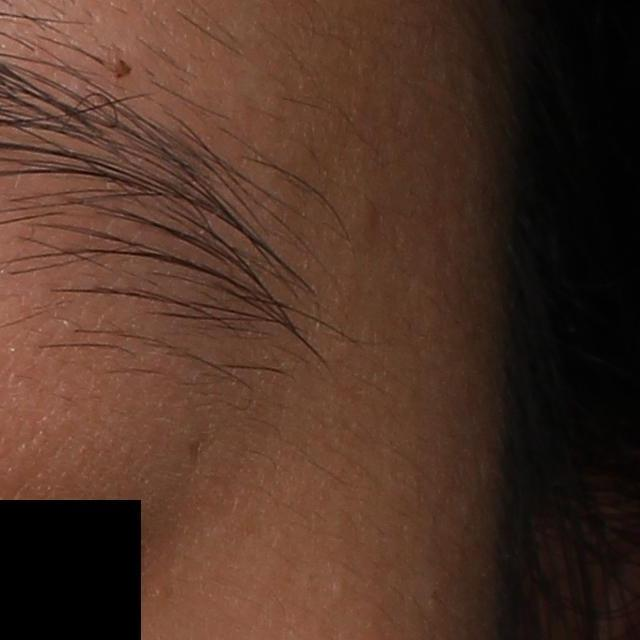nevus: (109, 55, 133, 83)
